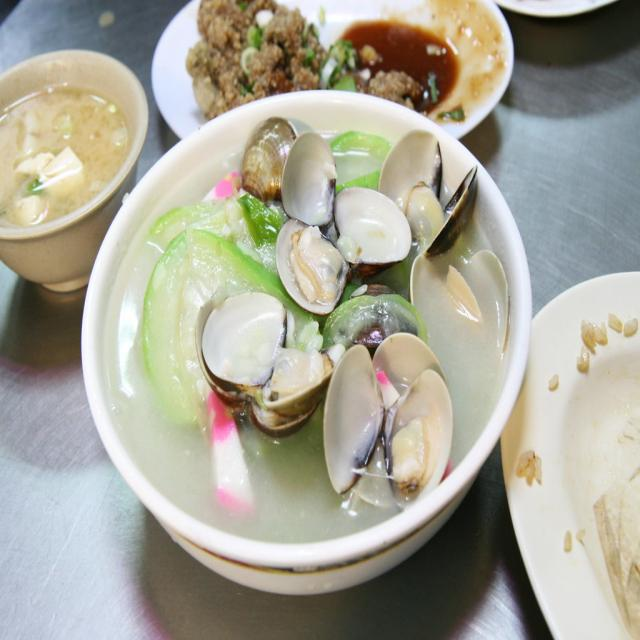Wet: (177, 137, 469, 513)
